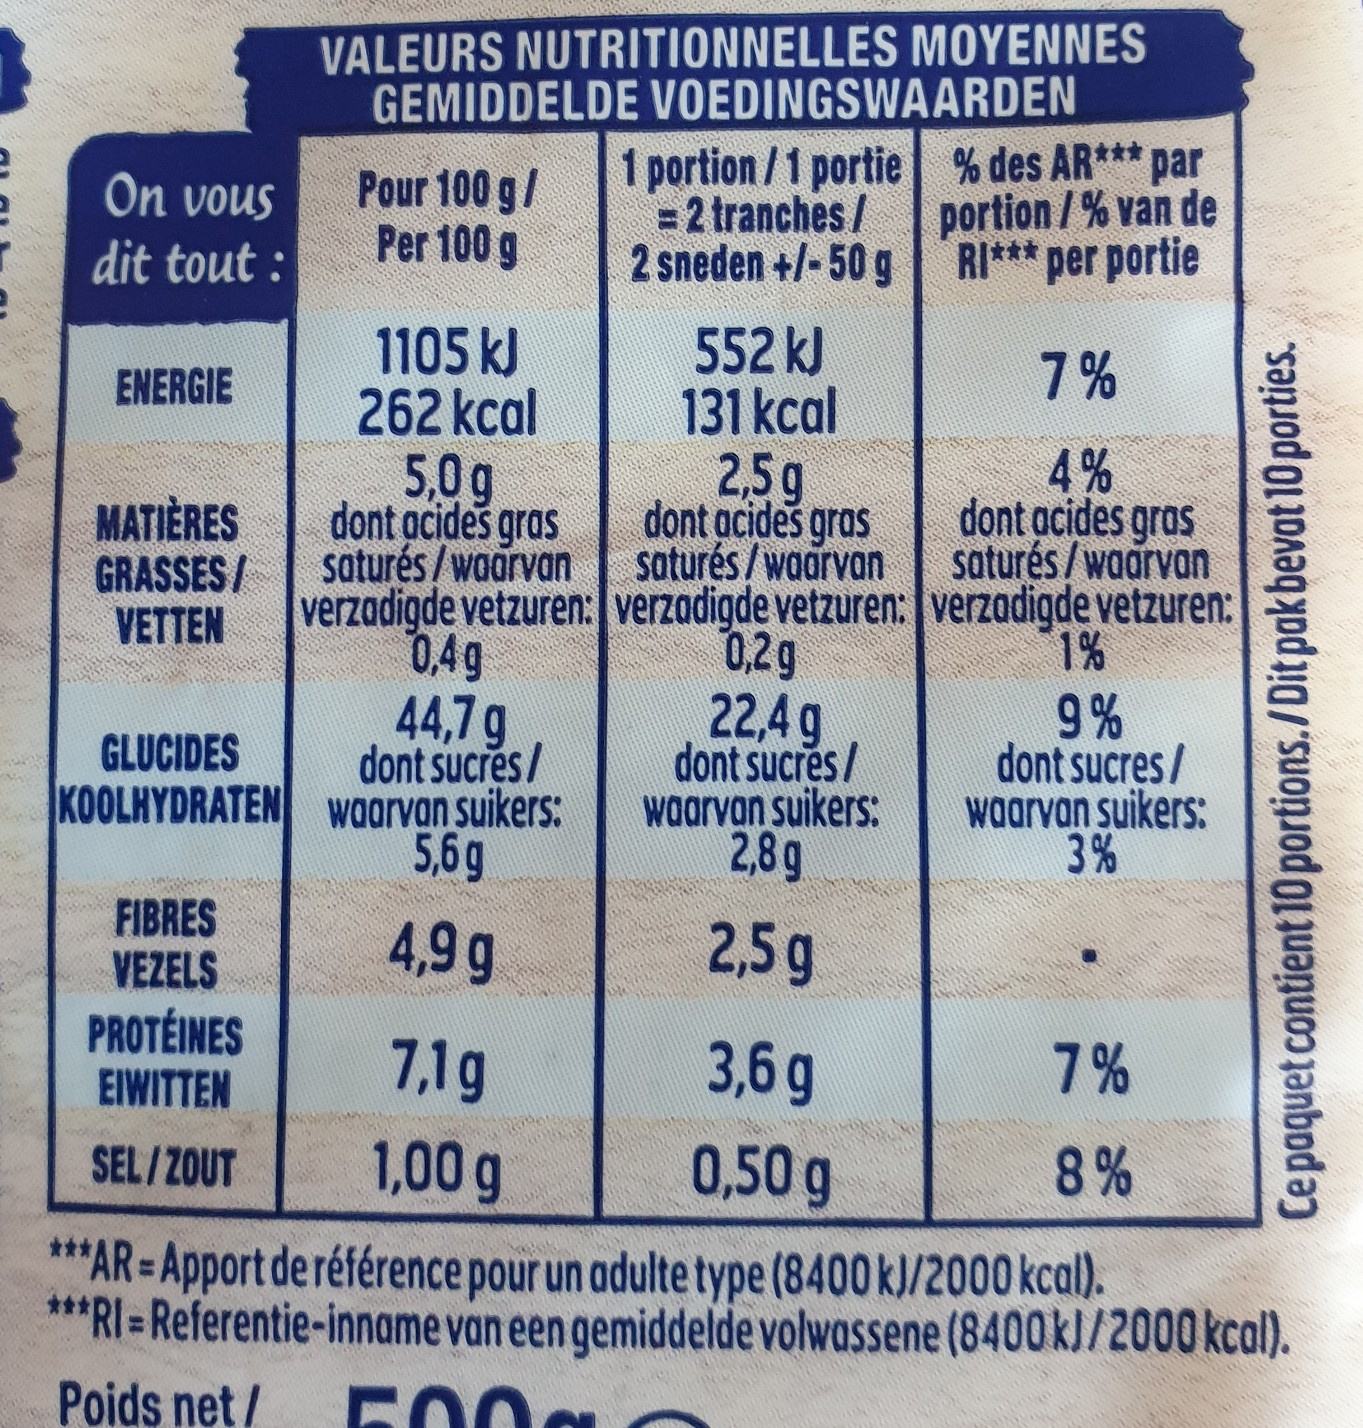column: (935, 142, 1224, 1204), (303, 152, 592, 1202), (623, 142, 904, 1210), (71, 138, 282, 1186)
table: (50, 17, 1267, 1230)
